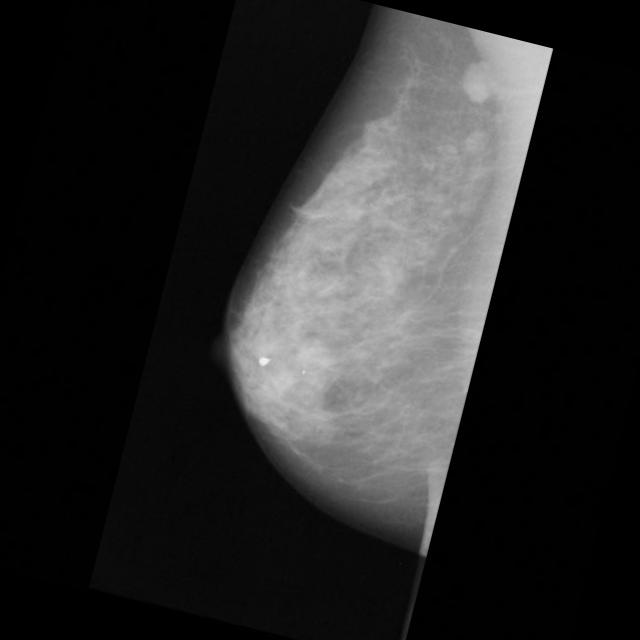CIRC: (425, 26, 534, 135)
